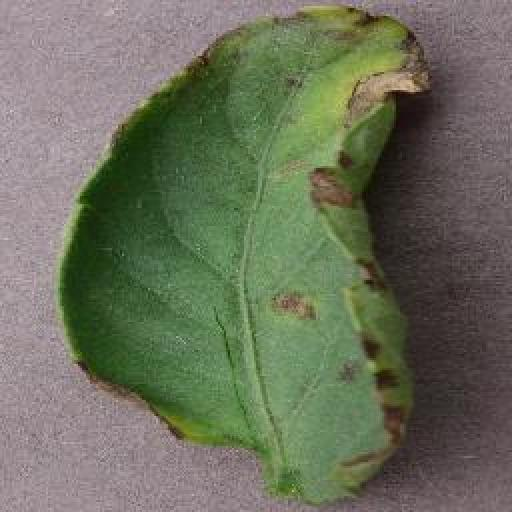Bacterial Spot: (34, 0, 434, 512)
